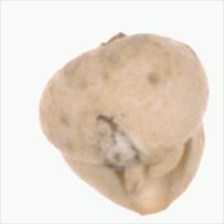L2: (37, 31, 208, 216)
